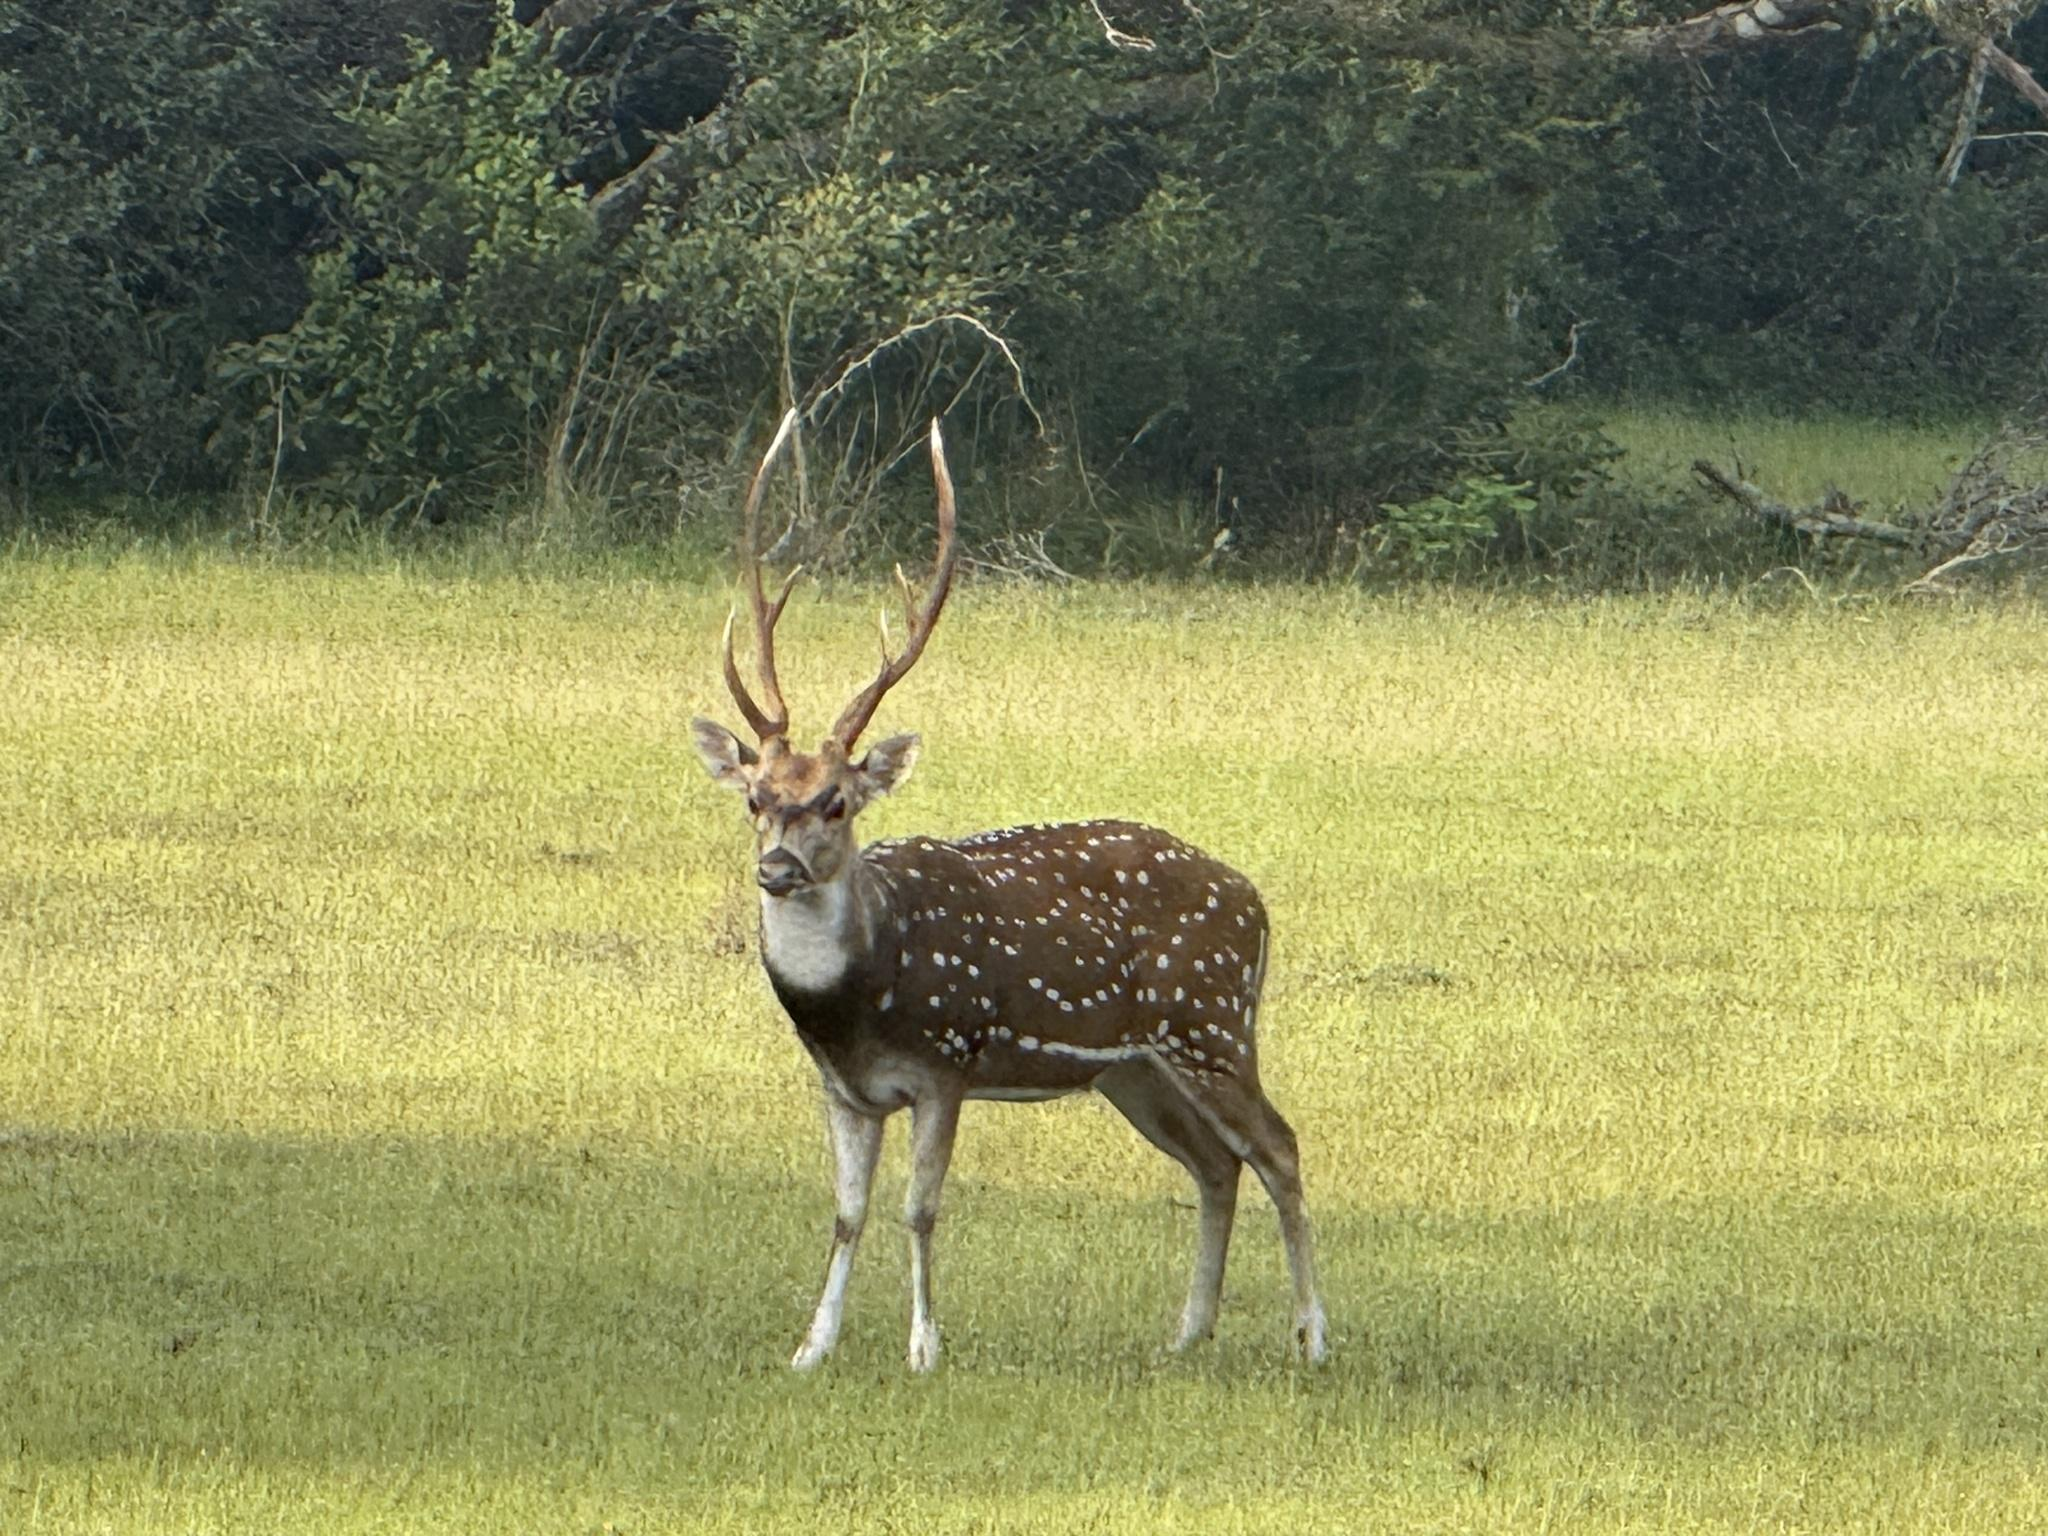Deer: (692, 402, 1326, 1371)
